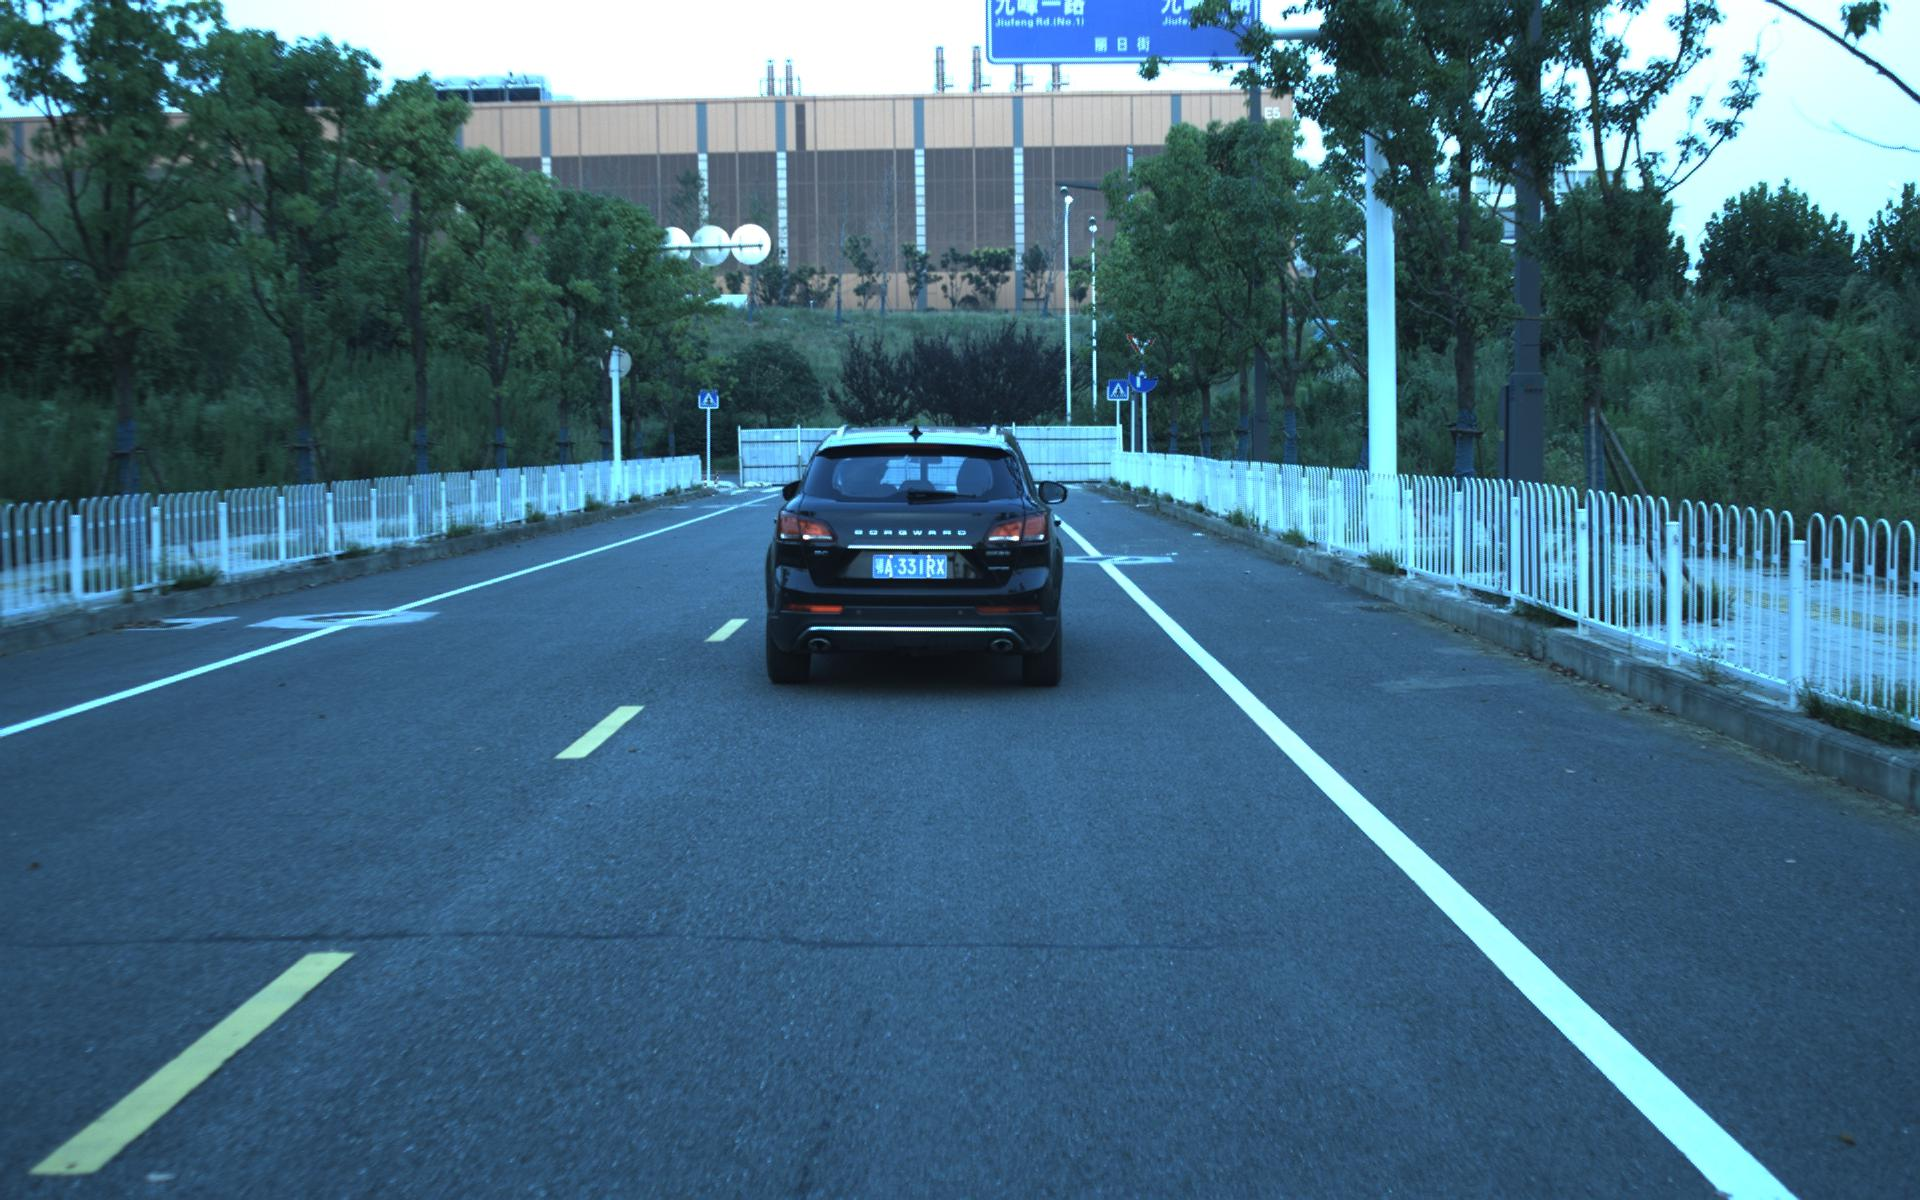Car: (762, 418, 1064, 688)
